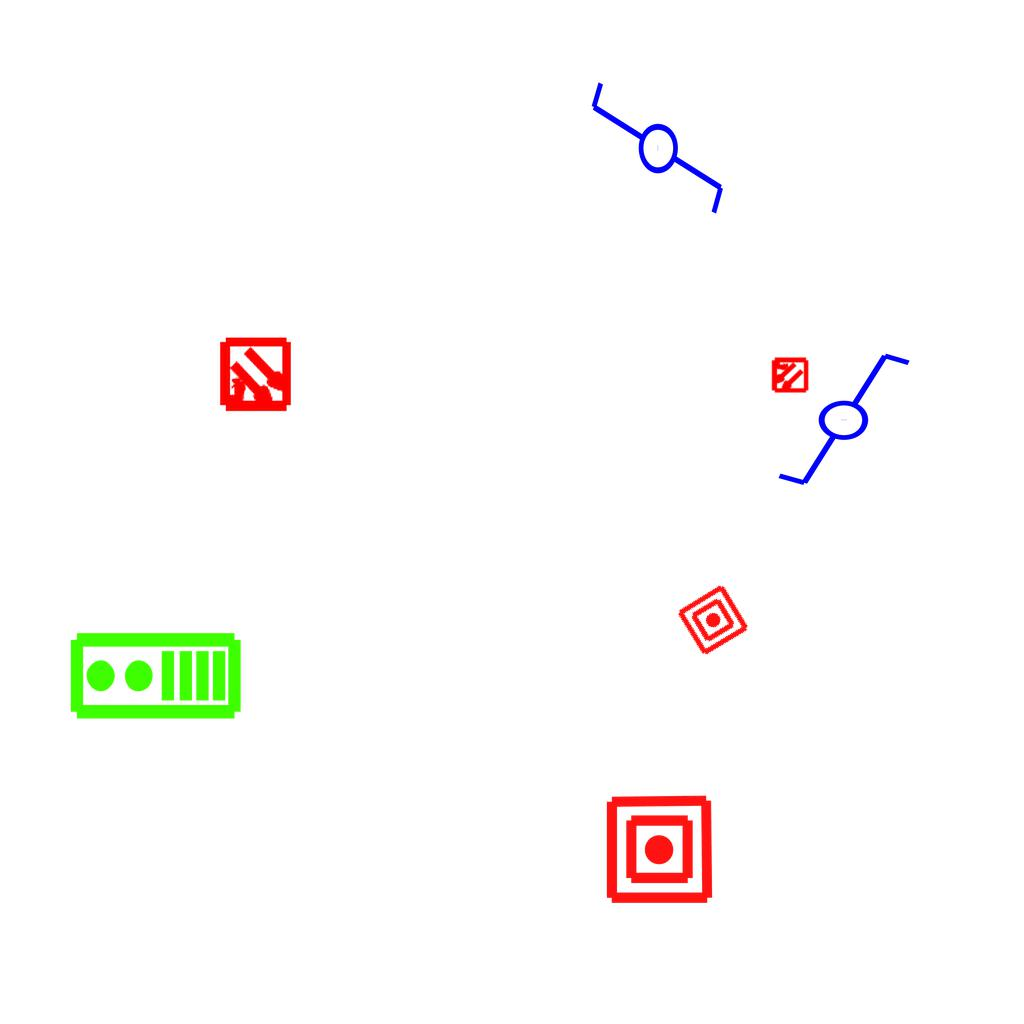Gegensprechanlage_mit_Video: (67, 630, 243, 725)
NAM-Nichtautomatischer_Melder: (603, 793, 716, 906), (674, 581, 752, 659)
OT_Multisensormelder_(Kombination_RMO_WMD): (199, 320, 312, 433), (761, 347, 817, 403)
Wechselschalter: (757, 346, 914, 490), (584, 78, 728, 235)
